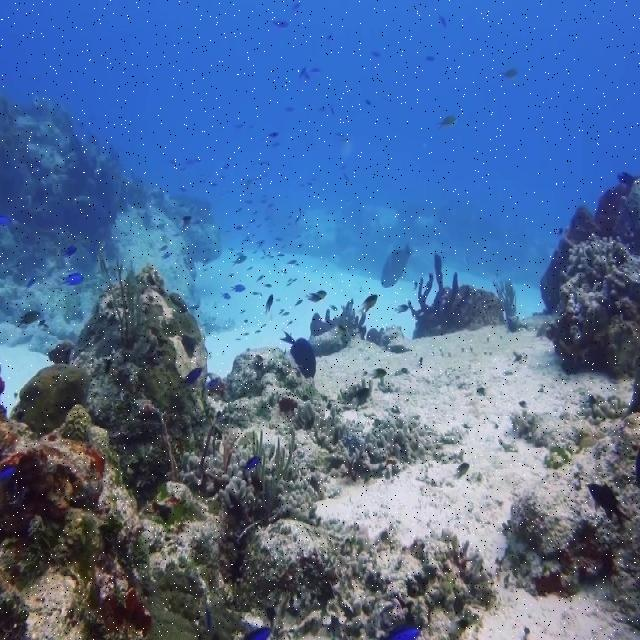fish: (281, 333, 316, 378), (380, 241, 416, 284)
reefs: (186, 432, 329, 535), (296, 404, 467, 479), (544, 238, 639, 349), (12, 362, 92, 437)
